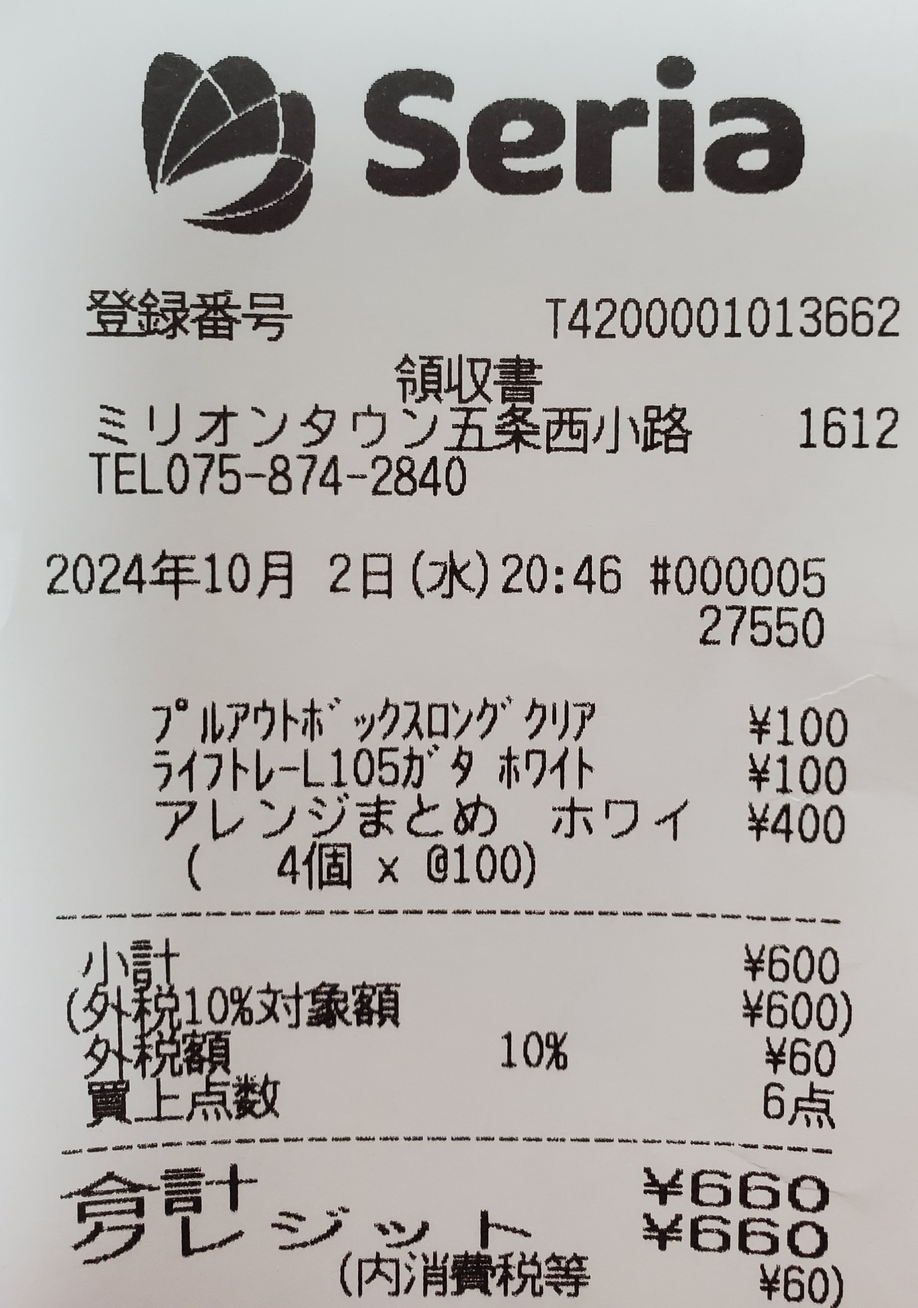Date: (42, 533, 406, 608)
Shopname: (355, 50, 833, 228)
Telnum: (164, 447, 486, 507)
Totalpay: (65, 1159, 849, 1224)
